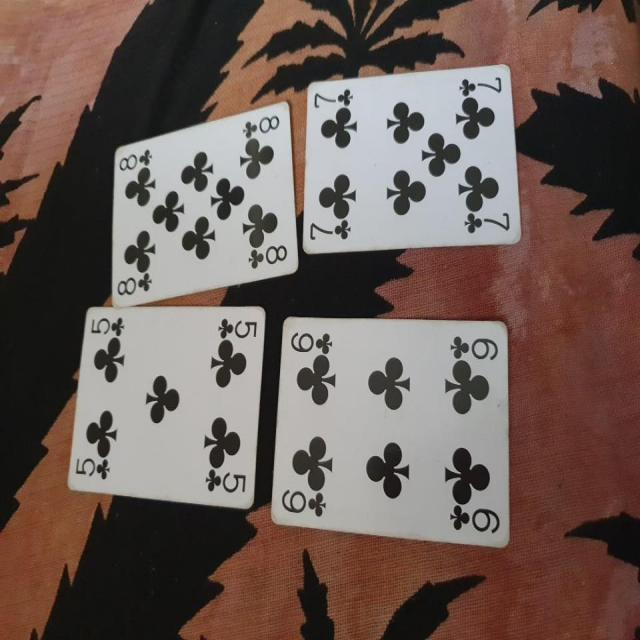5 of clubs: (65, 303, 268, 512)
6 of clubs: (270, 316, 510, 552)
7 of clubs: (298, 64, 522, 256)
8 of clubs: (111, 100, 298, 308)
